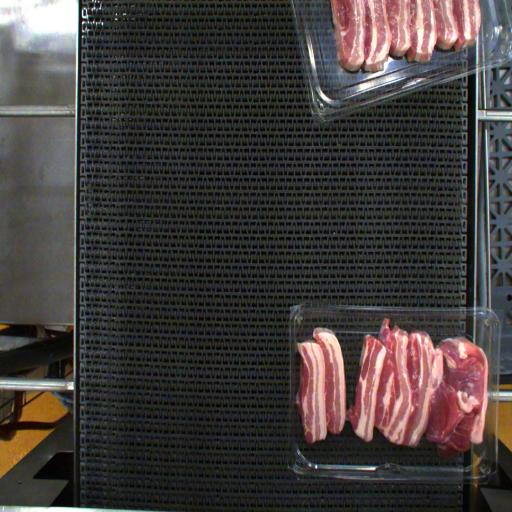loose-meat: (296, 323, 342, 448)
